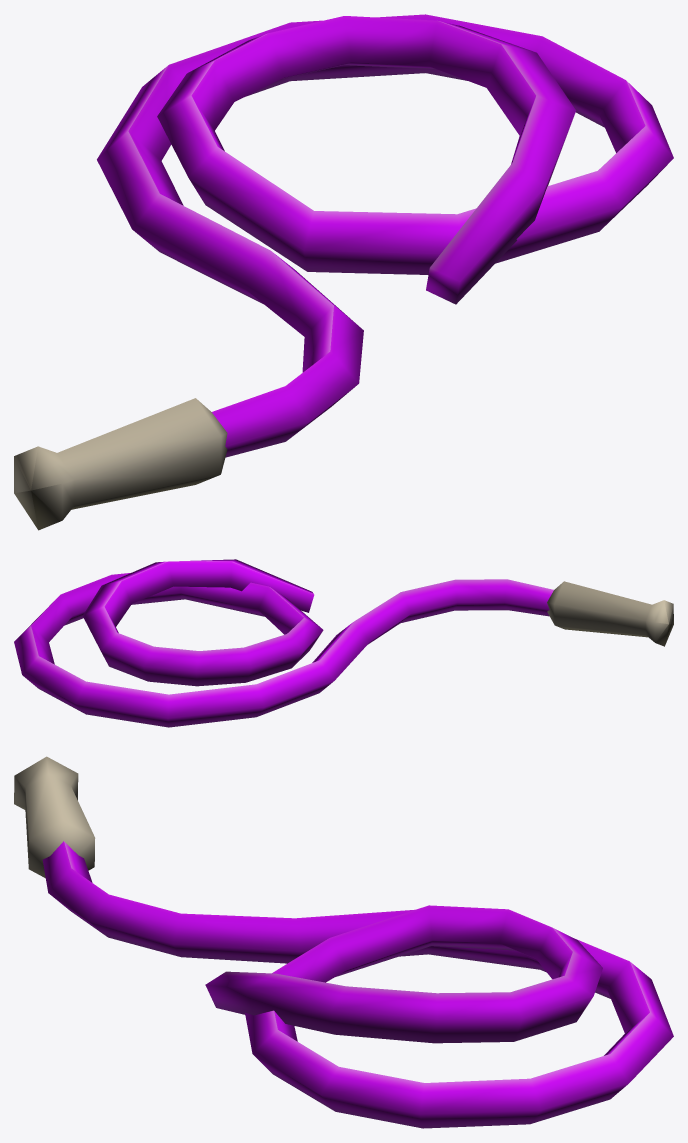
Rendered from Hose_1B.fbx.
3 views of the same model, one above another, from view 1: azimuth 30°, elevation 25°; view 2: azimuth 150°, elevation 25°; view 3: azimuth 270°, elevation 25° (orthographic). The views are drawn at different scales.
Parts seen in each view (by area): view 1: Hose_1B; view 2: Hose_1B; view 3: Hose_1B.
Boxes of the visible parts, left/top/right/bottom form: Hose_1B: left=14, top=14, right=673, bottom=530; Hose_1B: left=14, top=559, right=673, bottom=727; Hose_1B: left=14, top=756, right=673, bottom=1128.
Size of the model in its own units: 118 by 17.05 by 101.
